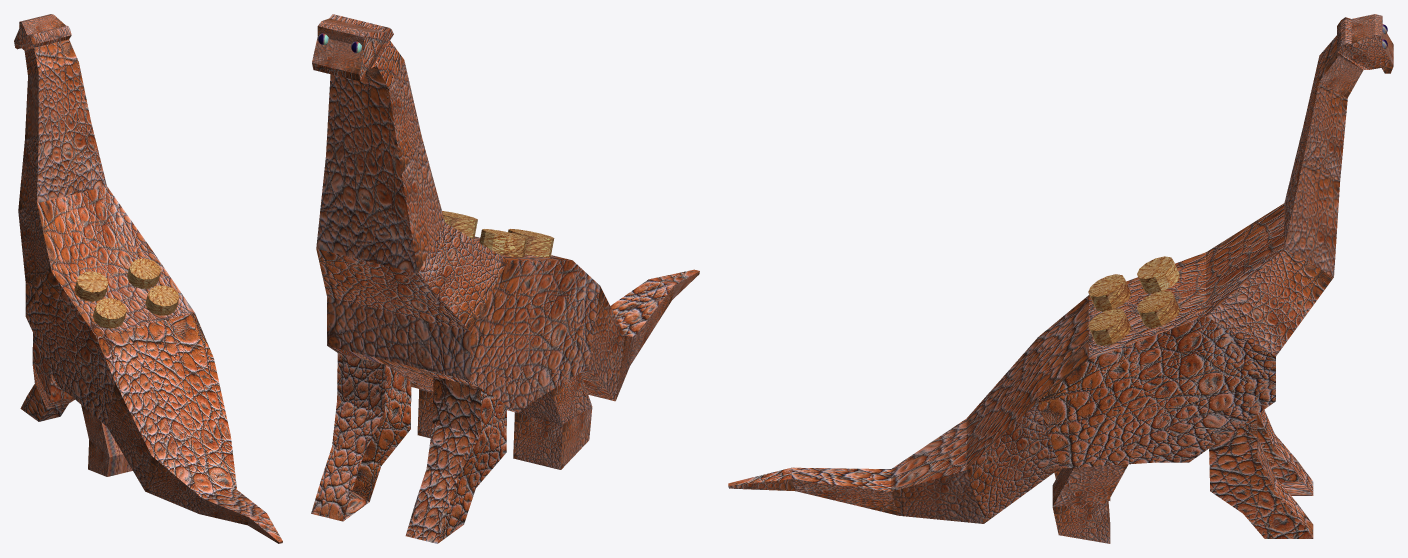
The model's file is bronto.obj.
The picture shows the model from 3 angles, left to right: view 1: azimuth 30°, elevation 25°; view 2: azimuth 150°, elevation 25°; view 3: azimuth 270°, elevation 25°; orthographic projection. The views are drawn at different scales.
Visible parts, largest first — view 1: Plane, Cylinder, Cylinder.003, Cylinder.002, Cylinder.001; view 2: Plane, Cylinder, Cylinder.003, Cylinder.002; view 3: Plane, Cylinder.001, Cylinder.002, Cylinder.003, Cylinder.
Boxes of the visible parts, box(x1,y1,x2,y2) form: Plane: box(14, 14, 282, 543); Cylinder: box(74, 271, 108, 301); Cylinder.003: box(93, 298, 126, 328); Cylinder.002: box(145, 285, 179, 315); Cylinder.001: box(127, 258, 160, 288); Plane: box(311, 14, 699, 543); Cylinder: box(479, 229, 527, 257); Cylinder.003: box(508, 229, 554, 257); Cylinder.002: box(442, 211, 477, 238); Plane: box(728, 14, 1393, 543); Cylinder.001: box(1137, 290, 1179, 327); Cylinder.002: box(1088, 308, 1131, 345); Cylinder.003: box(1088, 274, 1131, 311); Cylinder: box(1137, 256, 1179, 293).
Size of the model in its own units: 0.9286 by 3.28 by 4.06.
